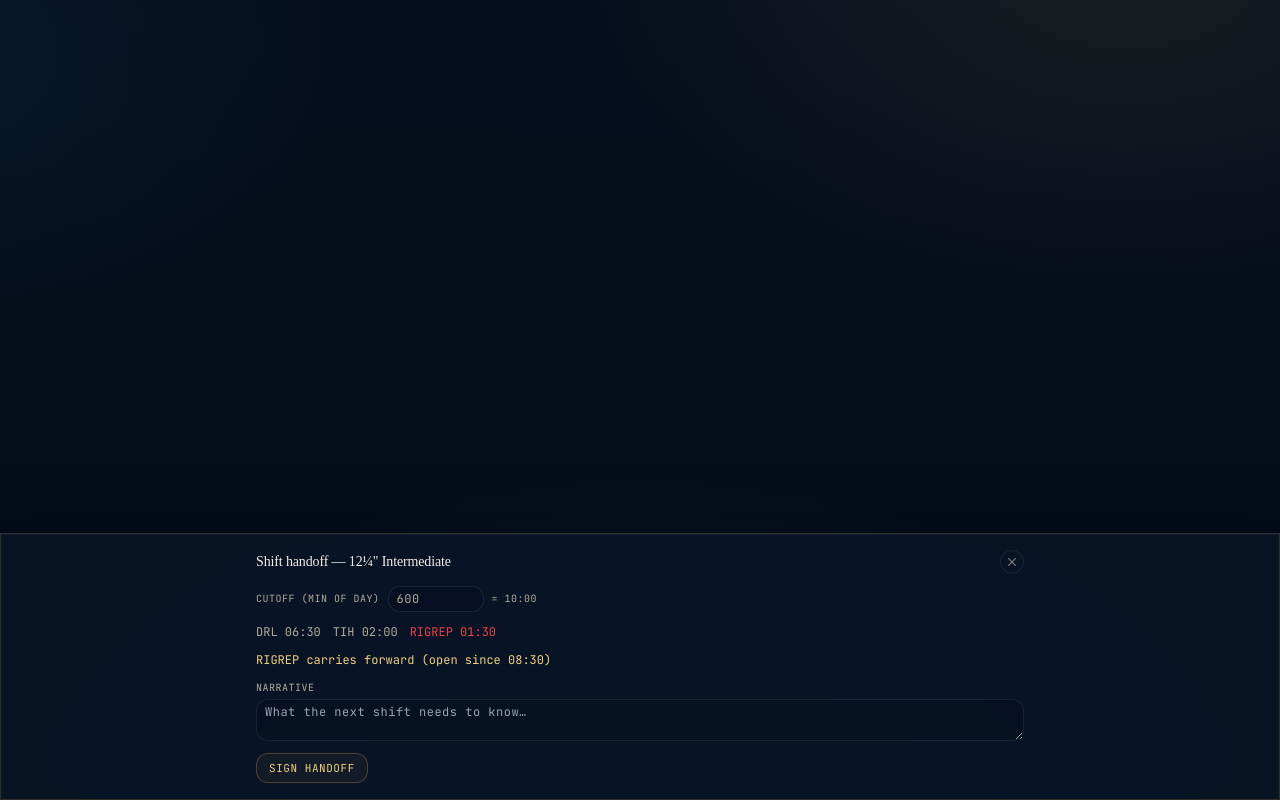
Test: HandoffDrawer › re-derives when the cutoff changes (carry-forward resolves on a boundary)
Replace the text in the number field labelled "Cutoff (min of day) = 10:00" with "1440" at {"x": 436, "y": 598}, box [388,586,484,612]
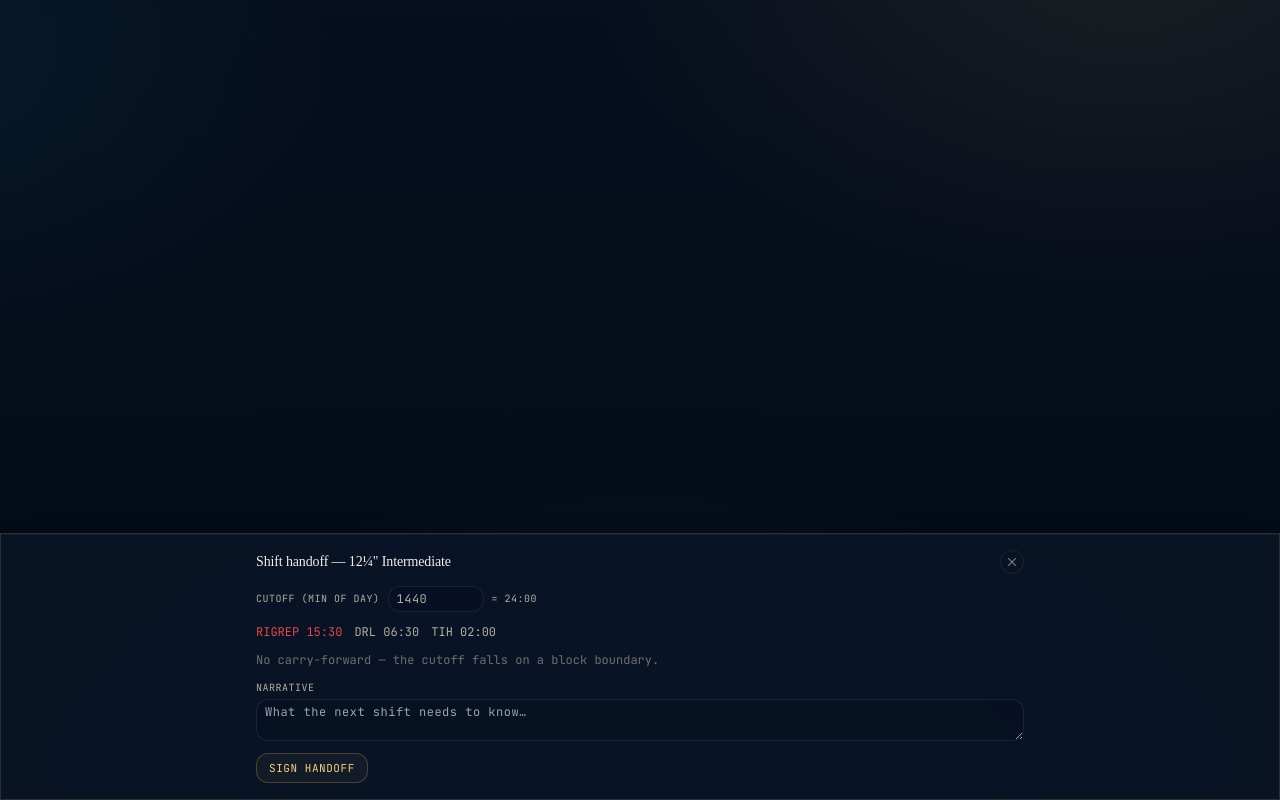
Result: the text "No carry-forward — the cutoff falls on a block boundary." is shown at [256,652,659,668]
